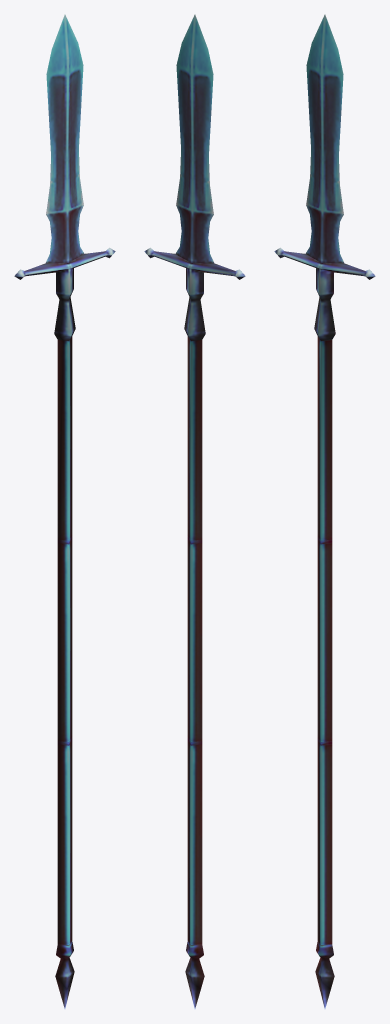
File: Polearm18.FBX
3 views of the same model, side by side, from view 1: azimuth 30°, elevation 25°; view 2: azimuth 150°, elevation 25°; view 3: azimuth 330°, elevation 25° (orthographic).
Visible parts, largest first — view 1: Polearm18; view 2: Polearm18; view 3: Polearm18.
Boxes of the visible parts, box(x1,y1,x2,y2) form: Polearm18: box(14, 14, 115, 1008); Polearm18: box(144, 14, 245, 1008); Polearm18: box(274, 14, 375, 1008).
Bounding box in the file's own units: 27.41 × 257 × 5.83.
